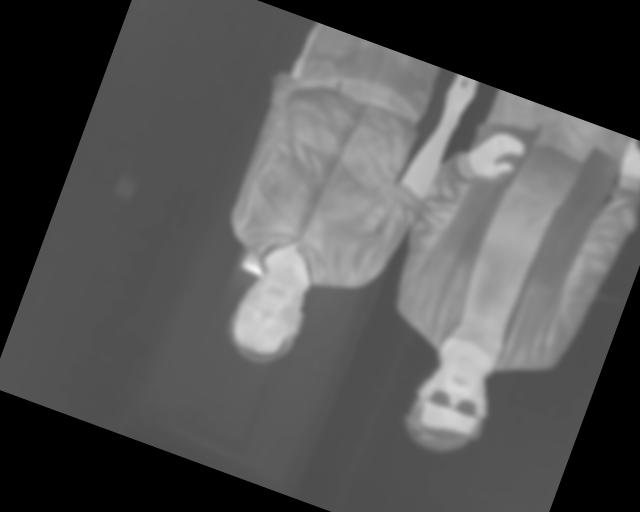face: (396, 344, 505, 467), (218, 256, 320, 376)
